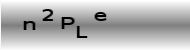2: (41, 8, 53, 21)
L: (75, 25, 87, 39)
P: (60, 16, 74, 29)
e: (93, 11, 107, 22)
n: (22, 19, 36, 32)
